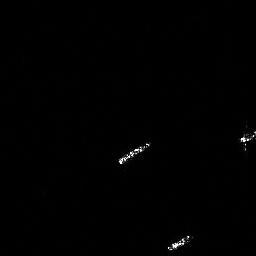ship: (114, 138, 153, 166), (165, 231, 198, 252), (236, 128, 256, 151)
